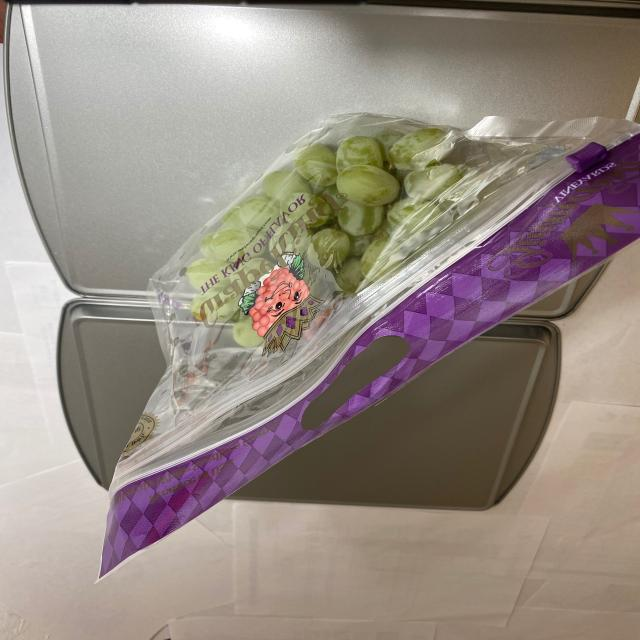grapes: (185, 109, 480, 362)
